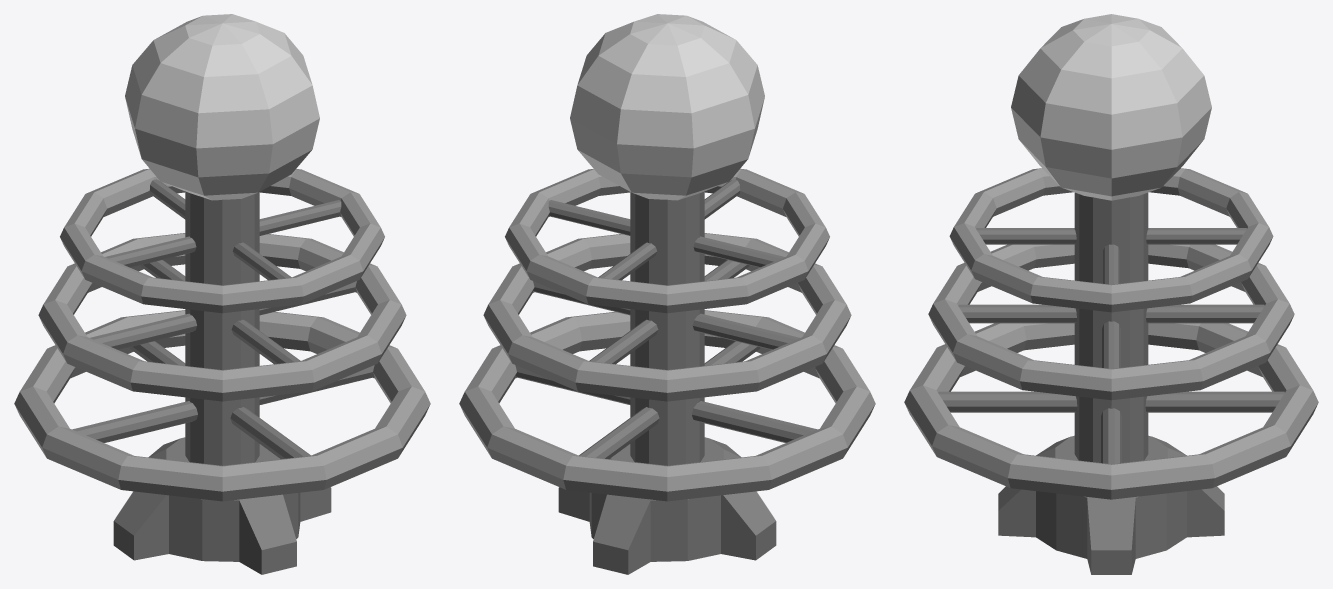
Rendered from BobinaTesla.fbx.
3 views of the same model, side by side, from view 1: azimuth 30°, elevation 25°; view 2: azimuth 150°, elevation 25°; view 3: azimuth 270°, elevation 25° (orthographic).
Visible parts, largest first — view 1: BobinaTesla; view 2: BobinaTesla; view 3: BobinaTesla.
Boxes of the visible parts, x1,y1,x2,y2 form: BobinaTesla: [14, 14, 430, 574]; BobinaTesla: [459, 14, 875, 574]; BobinaTesla: [904, 14, 1318, 574].
Bounding box in the file's own units: 164 × 220 × 164.
Materials: 1 (1 with a texture image).
